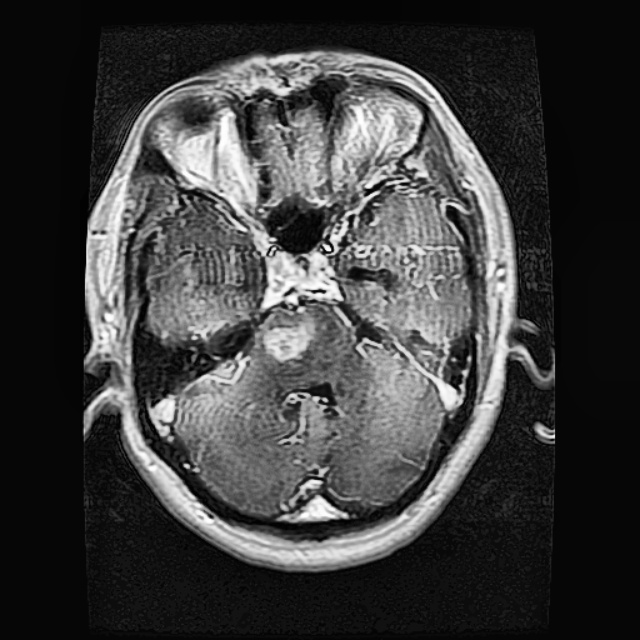Pituitary: (262, 320, 313, 363)
